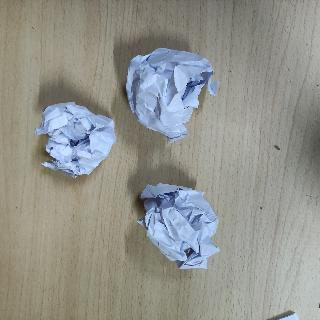8/可回收垃圾/纸: (124, 47, 219, 143), (136, 182, 222, 272), (35, 100, 118, 180)
